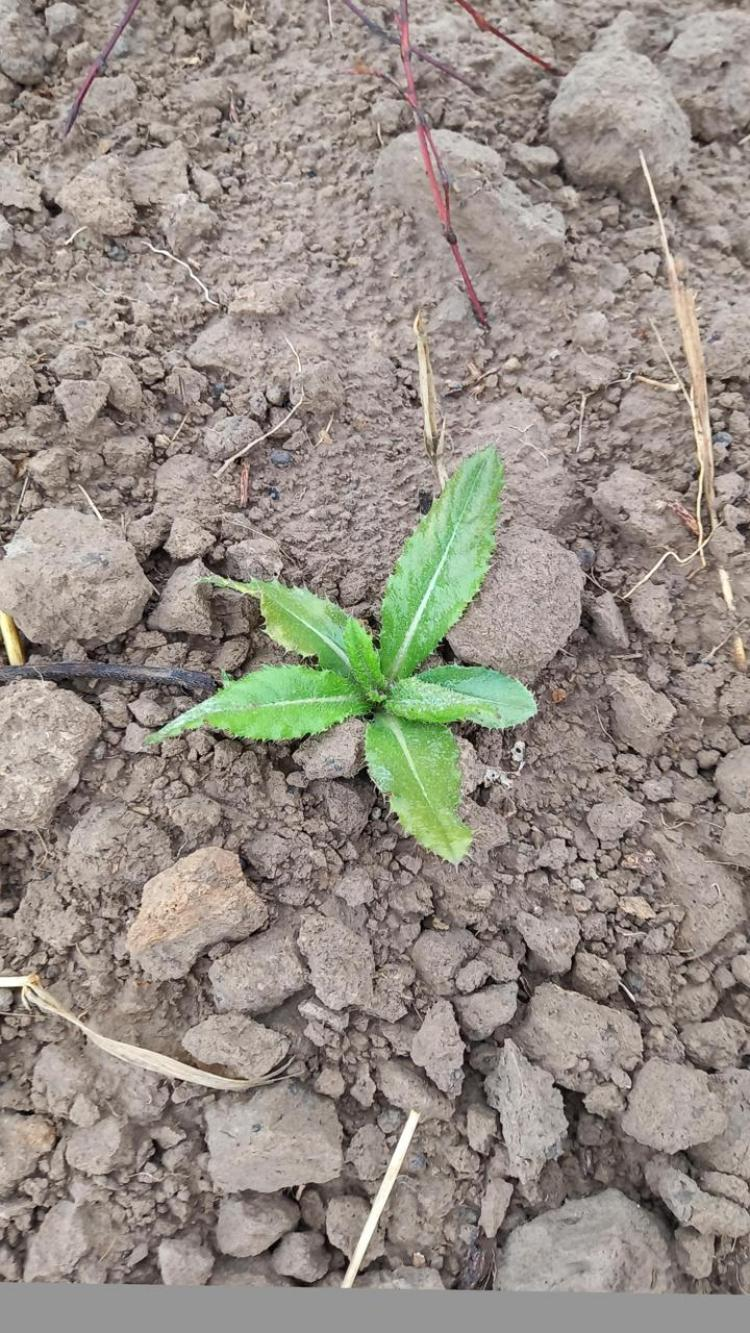bodyak: (146, 445, 542, 872)
